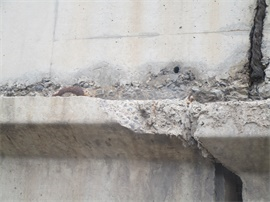rebar: (49, 78, 86, 96)
